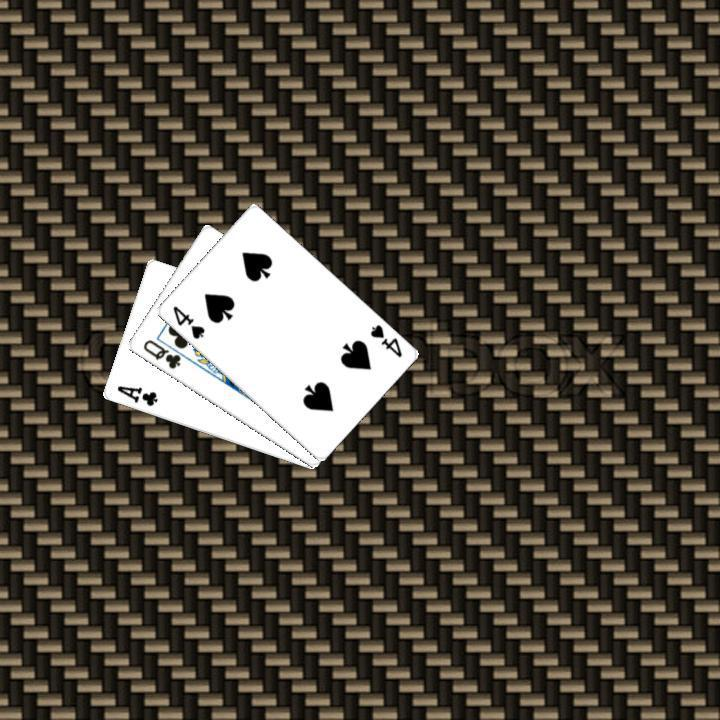4: (365, 320, 404, 359), (168, 302, 206, 341)
A: (112, 381, 159, 409)
Q: (138, 335, 183, 371)
